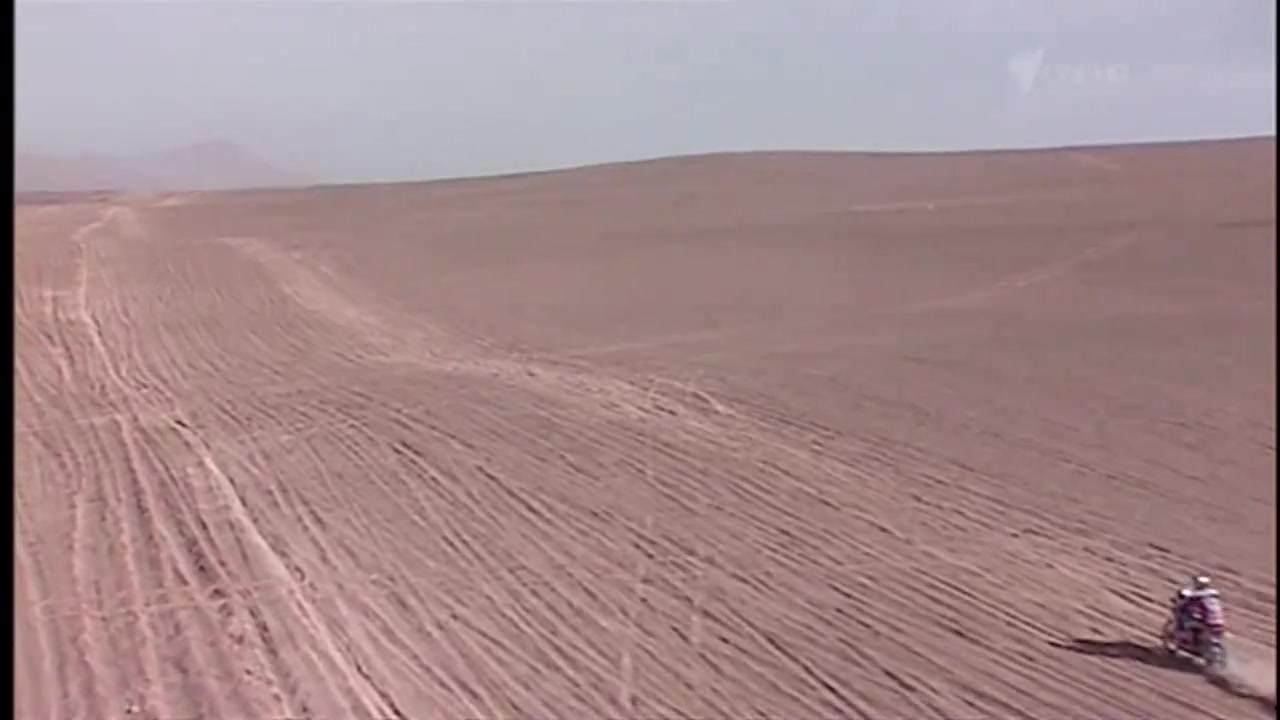motorbike: (1158, 599, 1235, 669)
